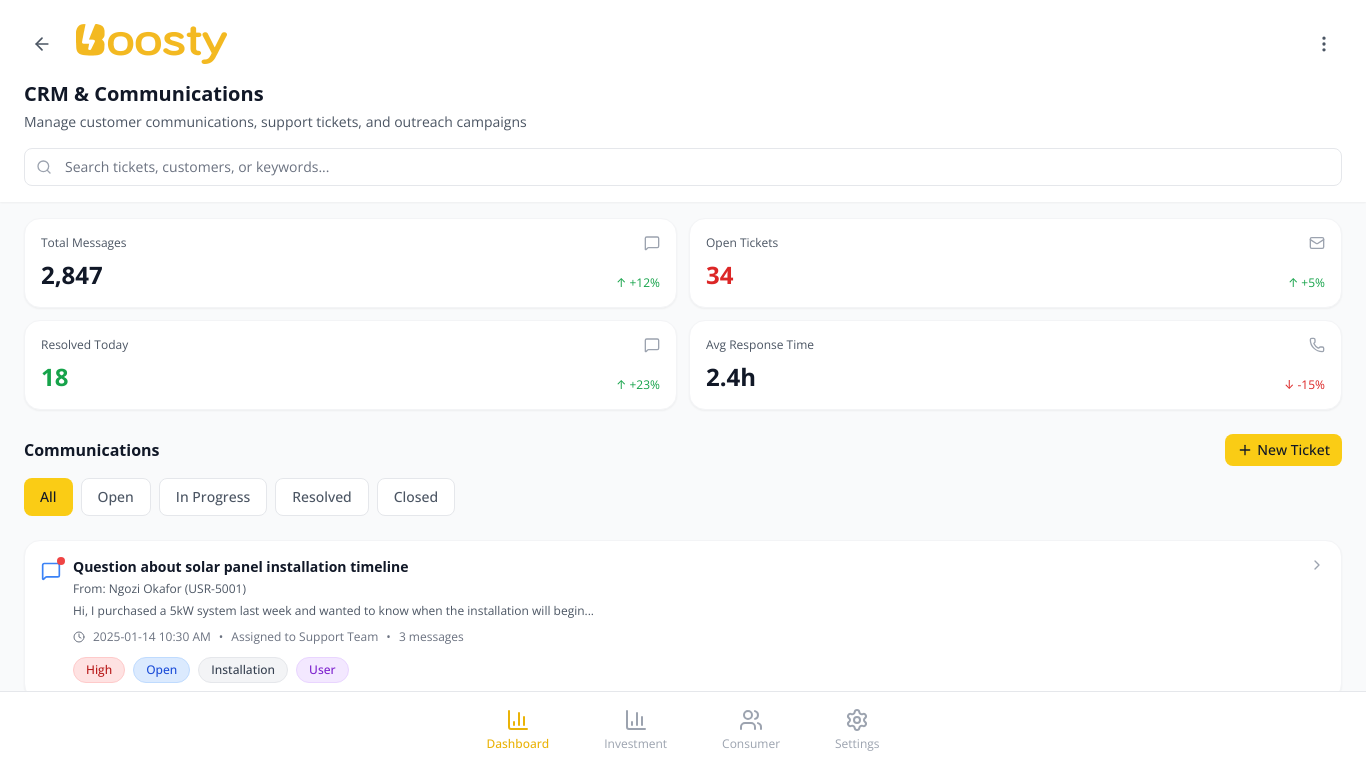
Scenario: EnhancedCrmDashboard › opens ticket details modal when ticket is clicked
Click the heading "Question about solar panel installation timeline" at (241, 566), box [73,557,409,576]
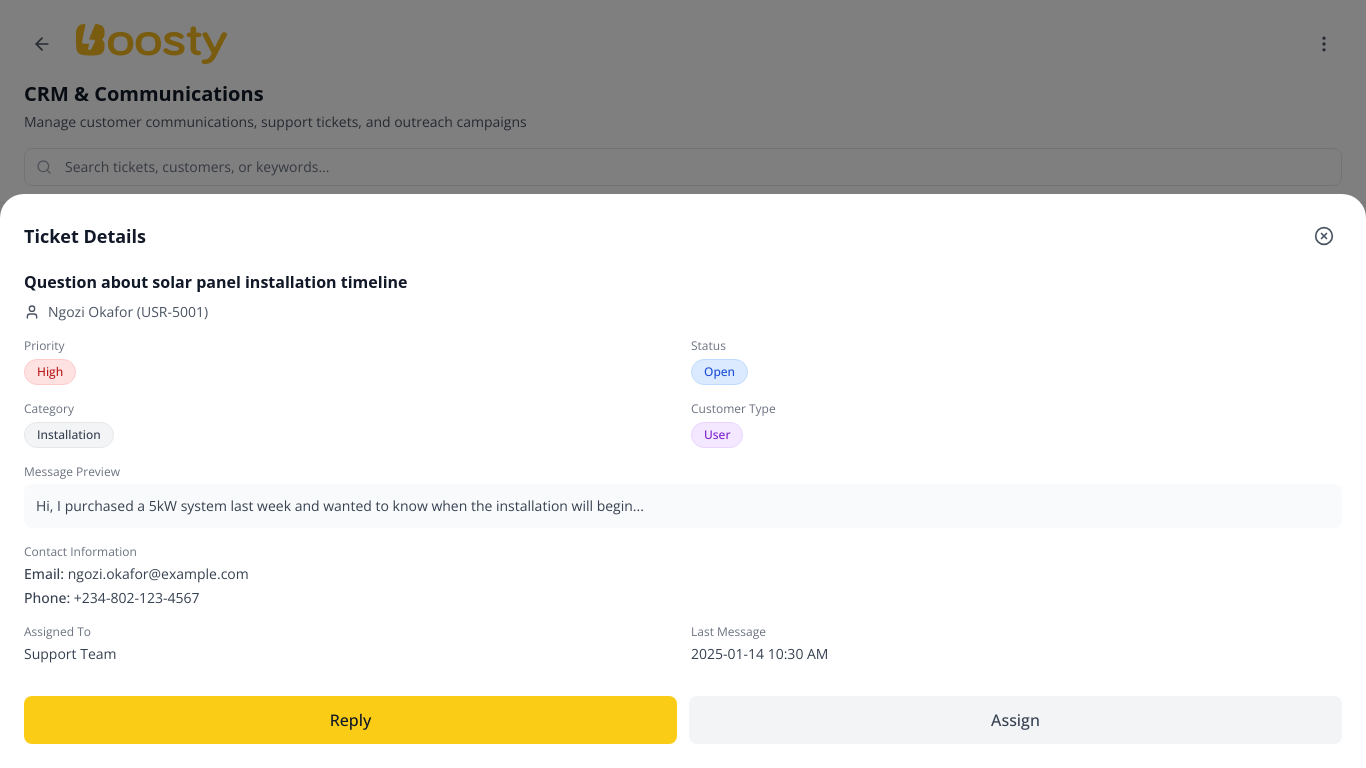
Now the heading "Ticket Details" is shown, box [24,222,146,250]
Now the button "Reply" is shown, box [24,696,677,744]
Now the button "Assign" is shown, box [689,696,1342,744]
